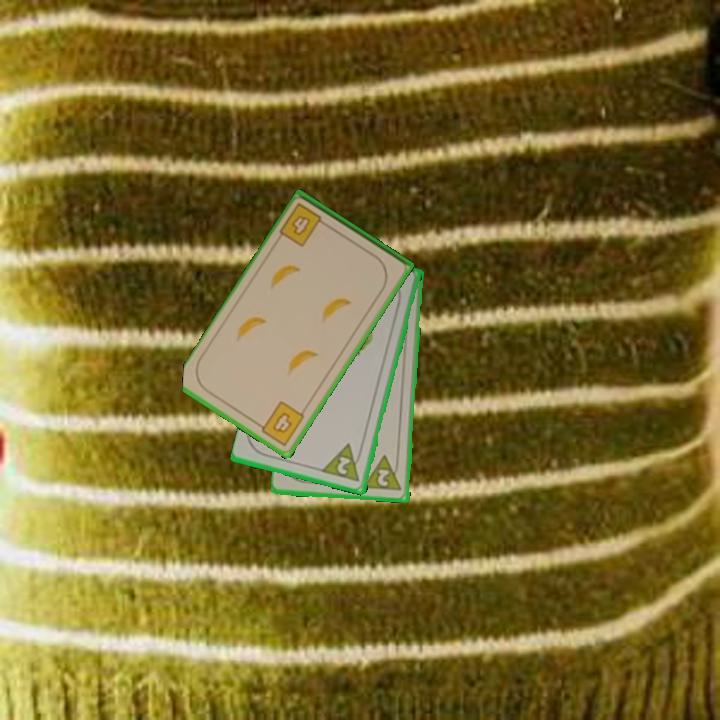2p: (320, 440, 366, 485), (361, 452, 405, 494)
4b: (253, 397, 308, 449), (276, 199, 332, 250)
